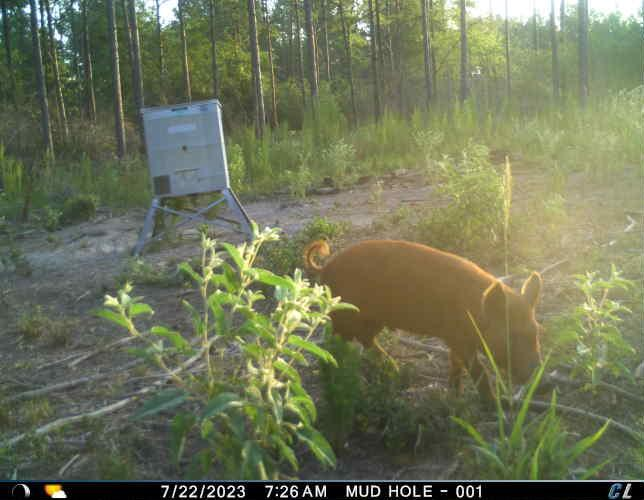Hog: (300, 232, 558, 412)
